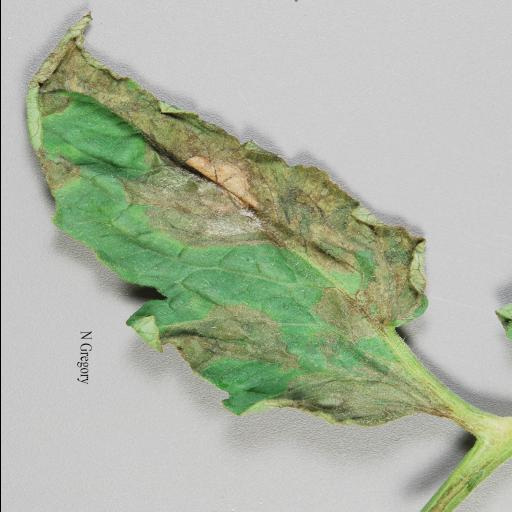disease_tomato: (26, 16, 474, 420)
